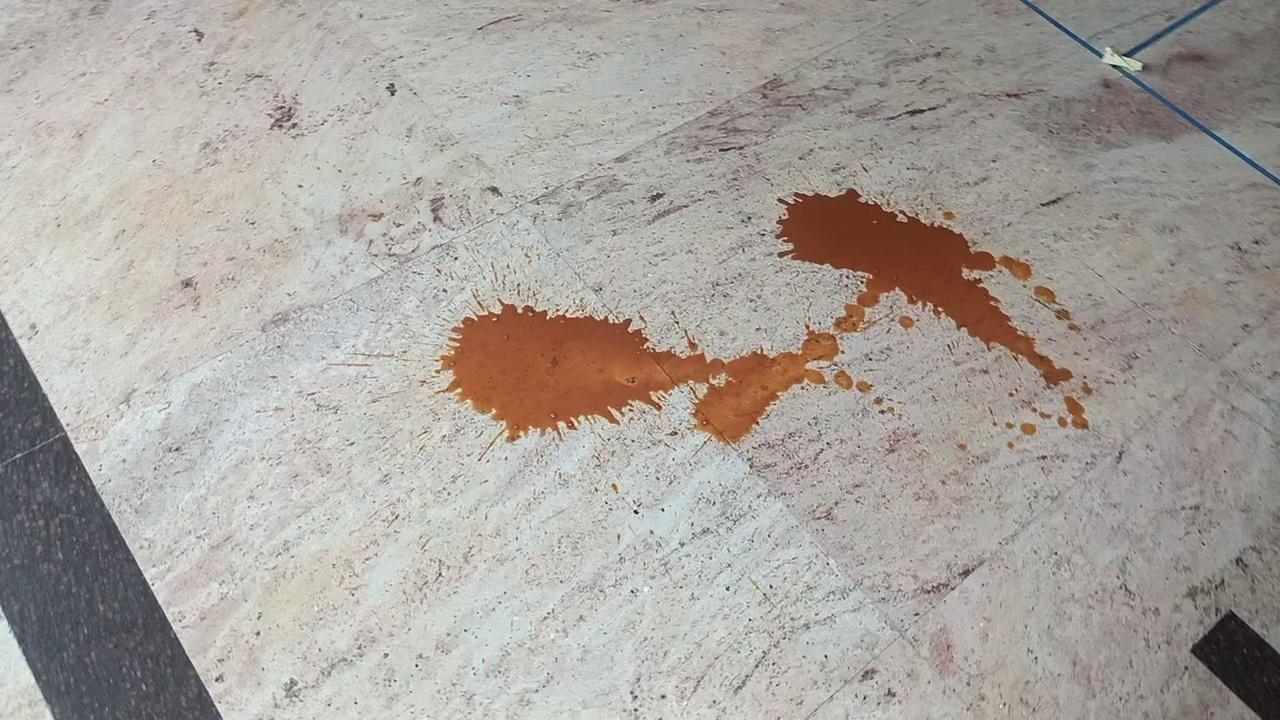dirty_floor: (441, 187, 1092, 440)
